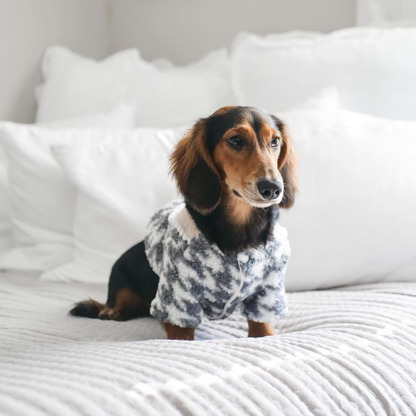dachshund: (58, 86, 323, 354)
